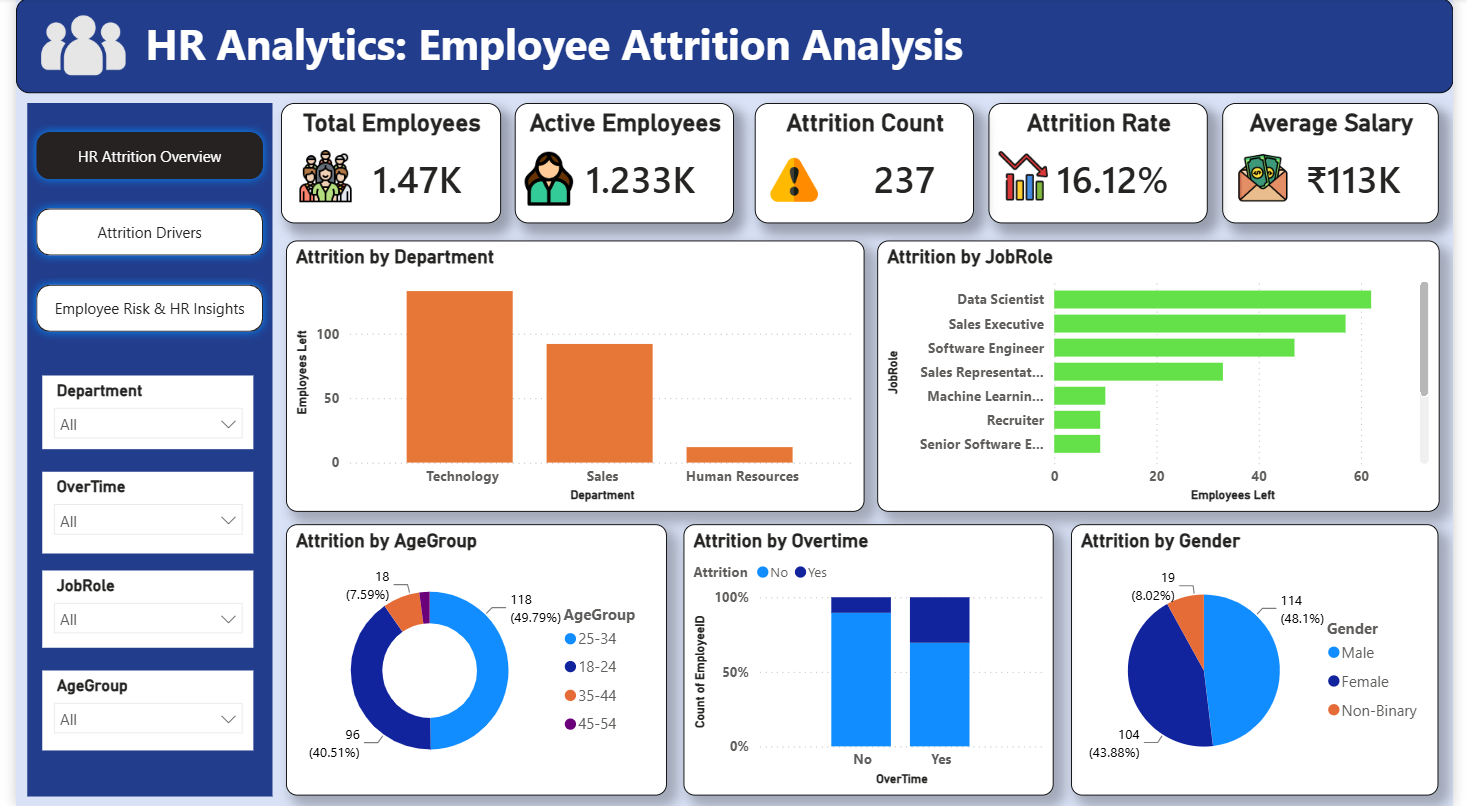

The page's visual inventory and layout, read from the dashboard file:
{"tool":"powerbi","page":{"name":"HR Attrition Overview","canvas":[1280,720],"ordinal":0},"visuals":[{"type":"textbox","box":[0,0,1280.2,84.6],"z":0},{"type":"group","id":"g1","title":"Group 1","box":[236,93,195.5,107.3],"z":1000},{"type":"cardVisual","title":"Total Employees","fields":{"Data":["HR Measures.Total Employees"]},"box":[236,93,196,107.3],"z":1000,"group":"g9"},{"type":"cardVisual","title":"Active Employees","fields":{"Data":["HR Measures.Employees Stayed"]},"box":[444.6,93,195.5,107.3],"z":1000,"group":"g4"},{"type":"cardVisual","title":"Attrition Count","fields":{"Data":["HR Measures.Employees Left"]},"box":[658,93,195.5,107.3],"z":1000,"group":"g8"},{"type":"cardVisual","title":"Attrition Rate","fields":{"Data":["HR Measures.Attrition Rate"]},"box":[866.6,93,195.5,107.3],"z":1000,"group":"g3"},{"type":"cardVisual","title":"Average Salary","fields":{"Data":["HR Measures.Average Salary"]},"box":[1074,93,193.1,107.3],"z":1000,"group":"g7"},{"type":"image","box":[0,4.8,120.4,75.1],"z":2000},{"type":"group","id":"g2","title":"Group 2","box":[1074,93,193.1,107.3],"z":3000},{"type":"image","box":[240.2,134.2,70.3,47.7],"z":3000,"group":"g9"},{"type":"group","id":"g3","title":"Group 3","box":[866.6,93,195.5,107.3],"z":4000},{"type":"textbox","box":[9.5,93,218.1,617.5],"z":5000},{"type":"group","id":"g4","title":"Group 1","box":[444.6,93,195.5,107.3],"z":5000,"group":"g6"},{"type":"group","id":"g5","title":"Group 4","box":[658,93,195.5,107.3],"z":6000},{"type":"image","box":[444.6,135.9,60.8,47.7],"z":6000,"group":"g6"},{"type":"group","id":"g6","title":"Group 5","box":[444.6,93,195.5,107.3],"z":7000},{"type":"group","id":"g7","title":"Group 1","box":[1074,93,193.1,107.3],"z":7000,"group":"g2"},{"type":"group","id":"g8","title":"Group 1","box":[658,93,195.5,107.3],"z":8000,"group":"g5"},{"type":"clusteredColumnChart","title":"Attrition by Department","fields":{"Category":["employee.Department"],"Y":["HR Measures.Employees Left"]},"box":[239.9,216.5,515.4,241.8],"z":8000},{"type":"clusteredBarChart","title":"Attrition by JobRole","fields":{"Category":["employee.JobRole"],"Y":["HR Measures.Employees Left"]},"box":[766.6,216.5,500.5,241.8],"z":9000},{"type":"group","id":"g9","title":"Group 6","box":[236,93,196,107.3],"z":9002,"group":"g1"},{"type":"image","box":[659.2,139.5,67.9,42.9],"z":10000,"group":"g5"},{"type":"donutChart","title":"Attrition by AgeGroup","fields":{"Category":["employee.AgeGroup"],"Y":["HR Measures.Employees Left"]},"box":[239.9,468.6,339.3,241.8],"z":10000},{"type":"image","box":[875.4,128.8,44.1,58.4],"z":11000,"group":"g3"},{"type":"pieChart","title":"Attrition by Gender","fields":{"Y":["HR Measures.Employees Left"],"Category":["employee.Gender"]},"box":[940,468.6,327.1,241.8],"z":11000},{"type":"image","box":[1087.1,135.9,45.3,46.5],"z":12000,"group":"g2"},{"type":"hundredPercentStackedColumnChart","title":"Attrition by Overtime","fields":{"Category":["employee.OverTime"],"Y":["CountNonNull(employee.EmployeeID)"],"Series":["employee.Attrition"]},"box":[594.2,468.6,329.9,241.8],"z":12000},{"type":"slicer","fields":{"Values":["employee.Department"]},"box":[23.8,336.2,188.3,65.6],"z":13000},{"type":"slicer","fields":{"Values":["employee.OverTime"]},"box":[23.8,422,188.3,72.7],"z":14000},{"type":"slicer","fields":{"Values":["employee.JobRole"]},"box":[23.8,510.2,188.3,69.1],"z":15000},{"type":"slicer","fields":{"Values":["employee.AgeGroup"]},"box":[23.8,598.4,188.3,71.5],"z":16000},{"type":"pageNavigator","box":[9.5,110.9,218.1,194.3],"z":17000}]}

Visuals, with their boxes in screenshot pixels (x1, y1, x2, y2), scaled from the page's 1280x720 canvas onto the 1467x806 screenshot:
textbox: locate(0, 0, 1466, 95)
"Group 1" group: locate(270, 104, 495, 224)
"Total Employees" cardVisual: locate(270, 104, 495, 224)
"Active Employees" cardVisual: locate(510, 104, 734, 224)
"Attrition Count" cardVisual: locate(754, 104, 978, 224)
"Attrition Rate" cardVisual: locate(993, 104, 1217, 224)
"Average Salary" cardVisual: locate(1231, 104, 1452, 224)
image: locate(0, 5, 138, 89)
"Group 2" group: locate(1231, 104, 1452, 224)
image: locate(275, 150, 356, 204)
"Group 3" group: locate(993, 104, 1217, 224)
textbox: locate(11, 104, 261, 795)
"Group 1" group: locate(510, 104, 734, 224)
"Group 4" group: locate(754, 104, 978, 224)
image: locate(510, 152, 579, 206)
"Group 5" group: locate(510, 104, 734, 224)
"Group 1" group: locate(1231, 104, 1452, 224)
"Group 1" group: locate(754, 104, 978, 224)
"Attrition by Department" clusteredColumnChart: locate(275, 242, 866, 513)
"Attrition by JobRole" clusteredBarChart: locate(879, 242, 1452, 513)
"Group 6" group: locate(270, 104, 495, 224)
image: locate(756, 156, 833, 204)
"Attrition by AgeGroup" donutChart: locate(275, 525, 664, 795)
image: locate(1003, 144, 1054, 210)
"Attrition by Gender" pieChart: locate(1077, 525, 1452, 795)
image: locate(1246, 152, 1298, 204)
"Attrition by Overtime" hundredPercentStackedColumnChart: locate(681, 525, 1059, 795)
slicer - employee.Department: locate(27, 376, 243, 450)
slicer - employee.OverTime: locate(27, 472, 243, 554)
slicer - employee.JobRole: locate(27, 571, 243, 648)
slicer - employee.AgeGroup: locate(27, 670, 243, 750)
pageNavigator: locate(11, 124, 261, 342)
